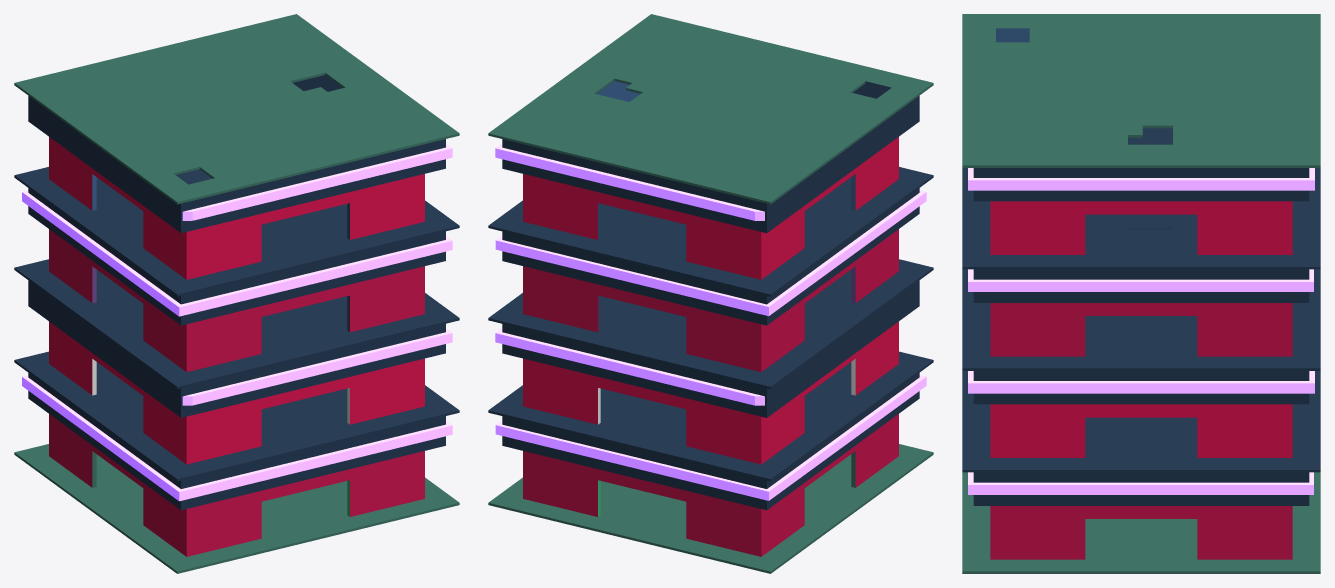
Rendered from NewColoredBuilding_1.gltf.
3 views of the same model, side by side, from view 1: azimuth 30°, elevation 25°; view 2: azimuth 150°, elevation 25°; view 3: azimuth 270°, elevation 25° (orthographic). The views are drawn at different scales.
Visible parts, largest first — view 1: Neon Outline.010; view 2: Neon Outline.010; view 3: Neon Outline.010.
Boxes of the visible parts, x1,y1,x2,y2 form: Neon Outline.010: (14,14,459,573); Neon Outline.010: (488,14,933,573); Neon Outline.010: (962,14,1320,573).
Size of what is drawn, in the model's own units: 32 by 40.25 by 32.
2 materials, 1 textured.
